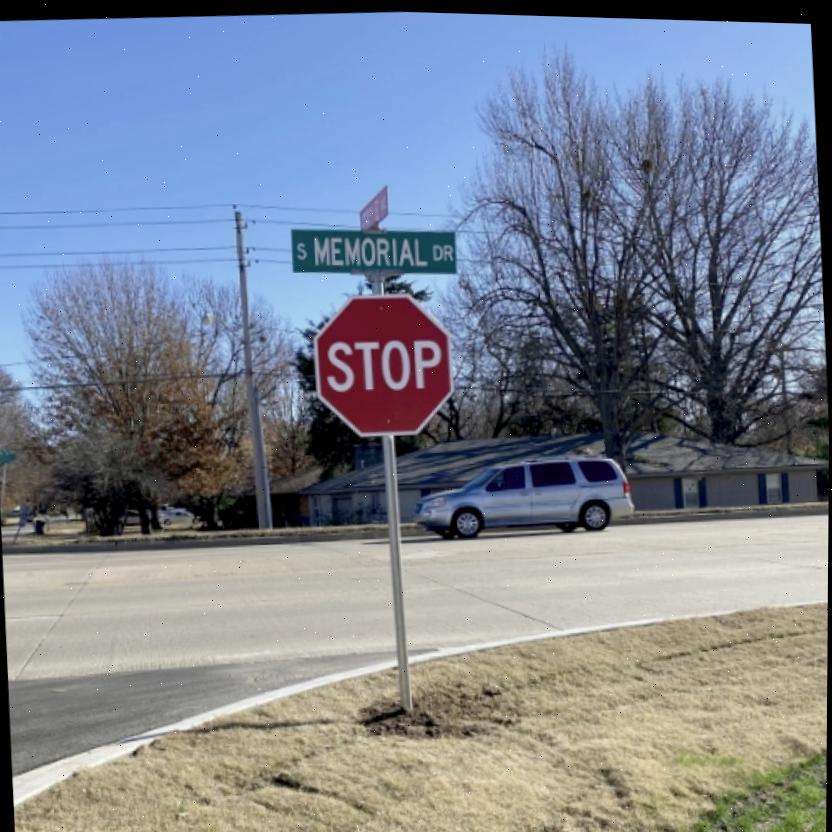Pole: (380, 433, 415, 708)
Sign: (312, 287, 456, 439)
